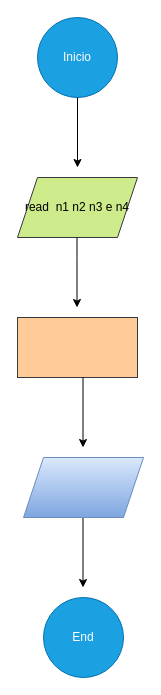
Some shapes in this 161 by 695 pixel diagram are drawn without their labels. Here are the shapes that lost their labels. From the top down, the centre of each, then its label:
pixel 77 347: (n1 +n2+n3+n4) /4
pixel 83 487: show results
